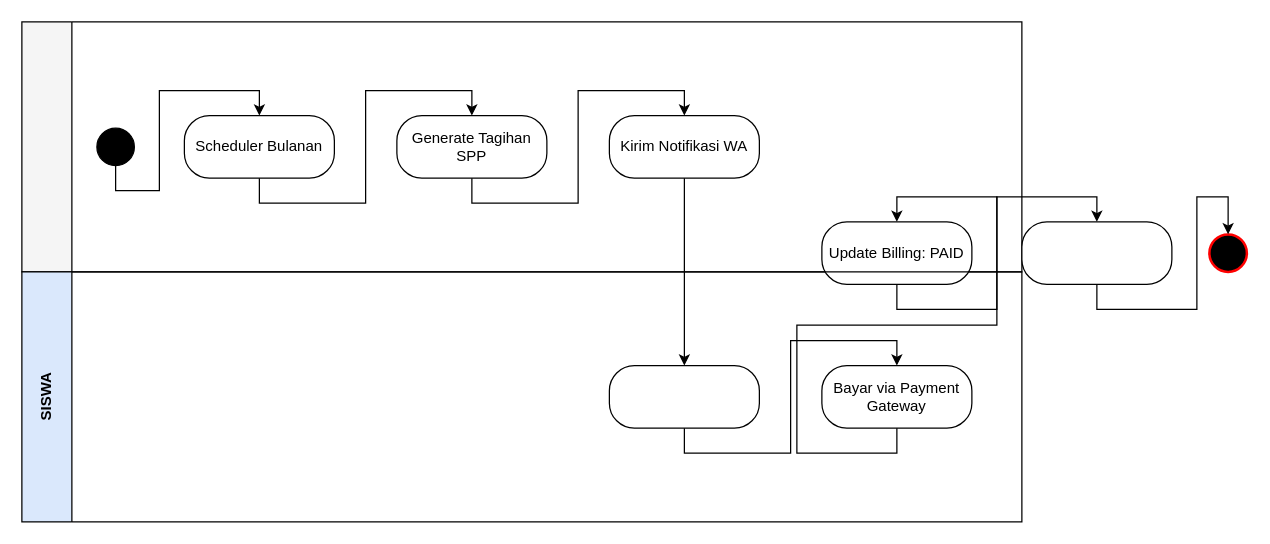
Some shapes in this 1270 by 544 pixel diagram are drawn without their labels. Each missing label, with the box of its shape:
Buka Aplikasi: (608, 364, 759, 428)
Kirim Kuitansi Digital: (1021, 221, 1172, 284)
SISTEM: (21, 21, 1022, 272)
